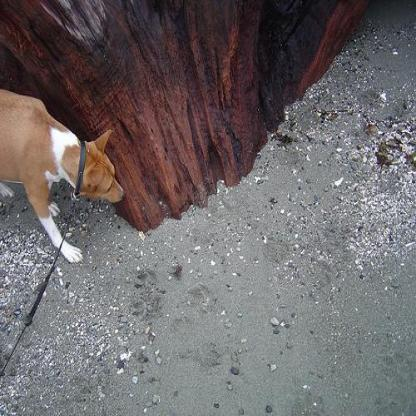basenji: (0, 87, 122, 263)
